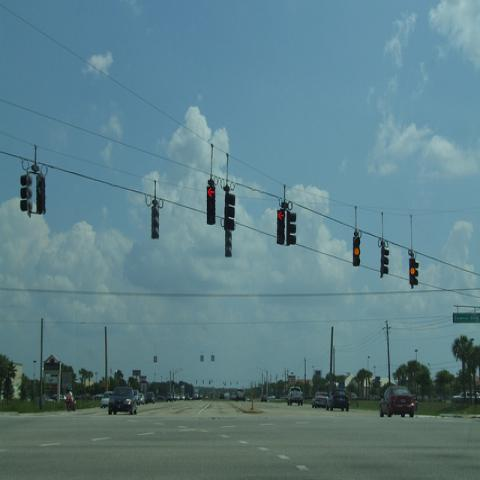car: (379, 386, 415, 418), (108, 386, 138, 415), (326, 390, 349, 412), (310, 391, 328, 409), (101, 391, 114, 409), (146, 392, 156, 403), (138, 393, 145, 405), (166, 392, 173, 402), (260, 394, 267, 402)
motorcycle: (66, 394, 74, 411)
truck: (286, 386, 304, 406), (194, 388, 199, 400)
